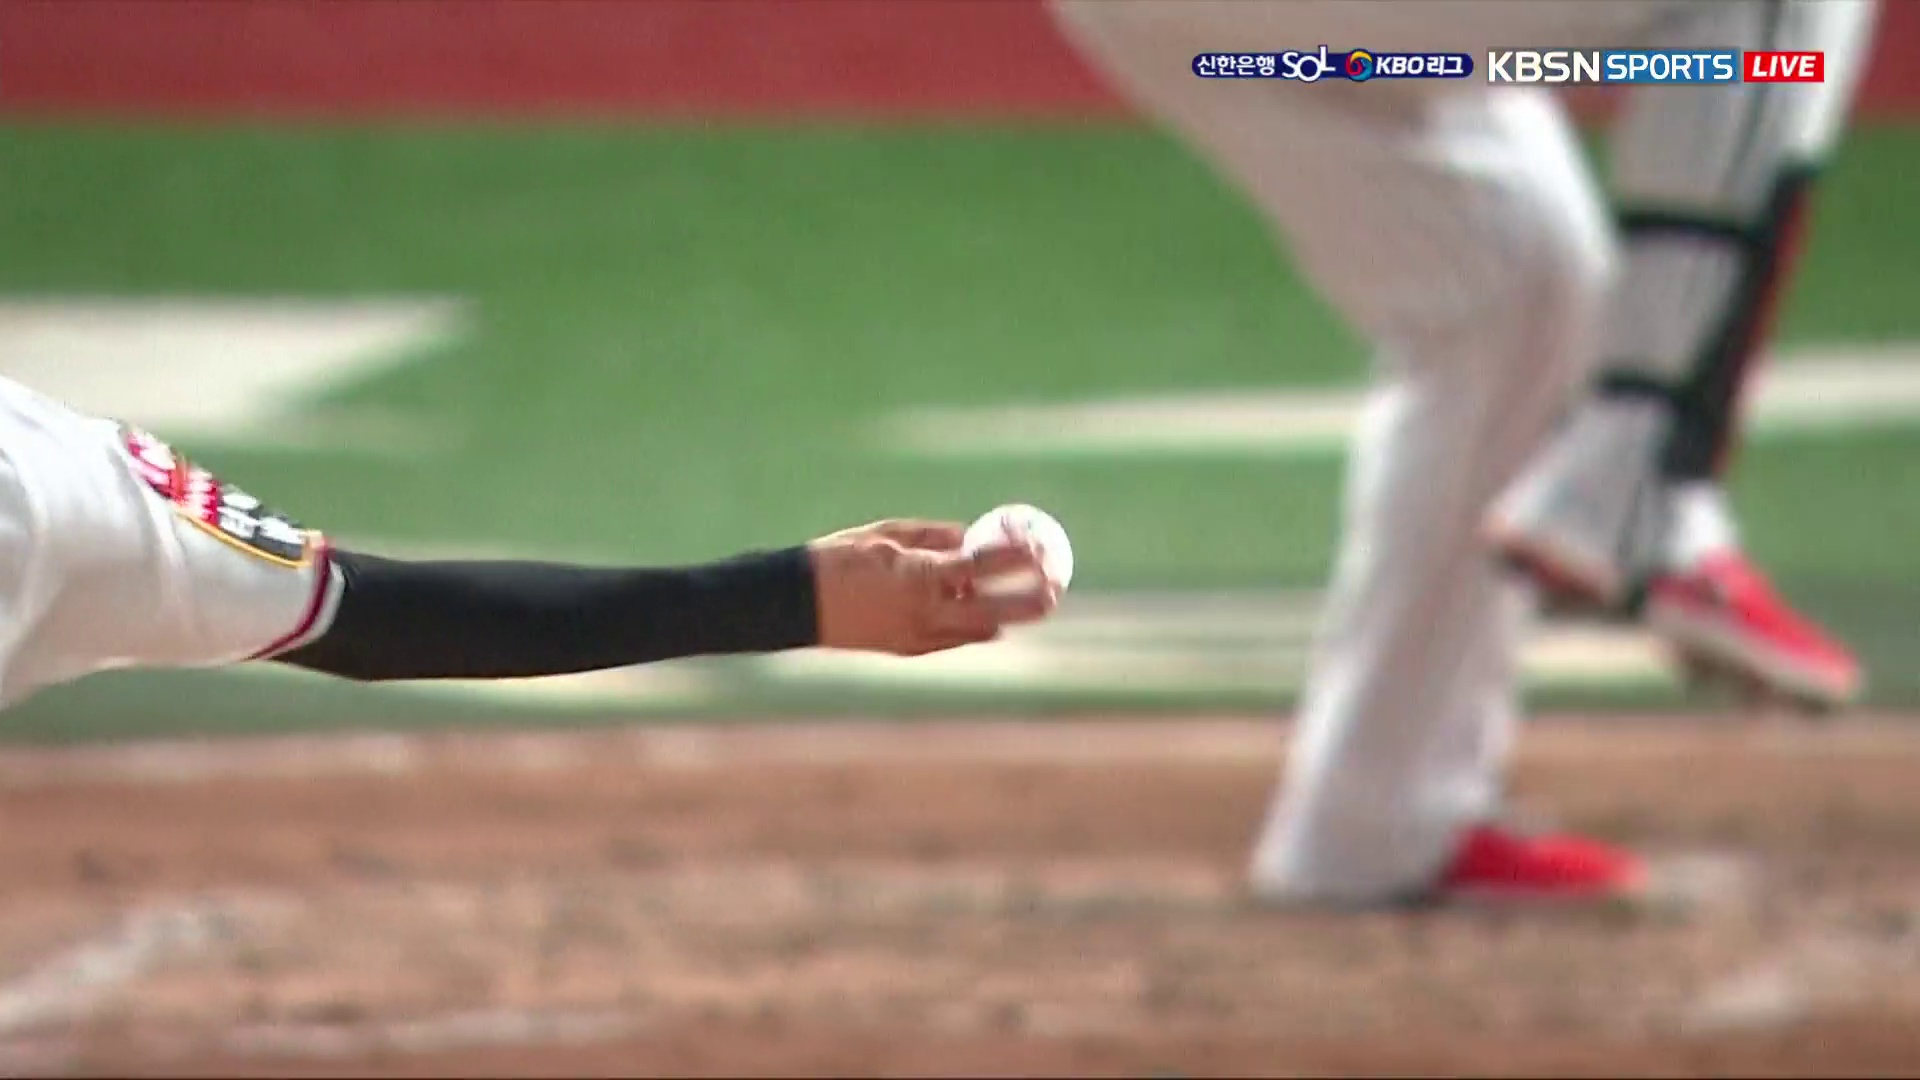zoomin_hand: (316, 488, 1091, 746)
